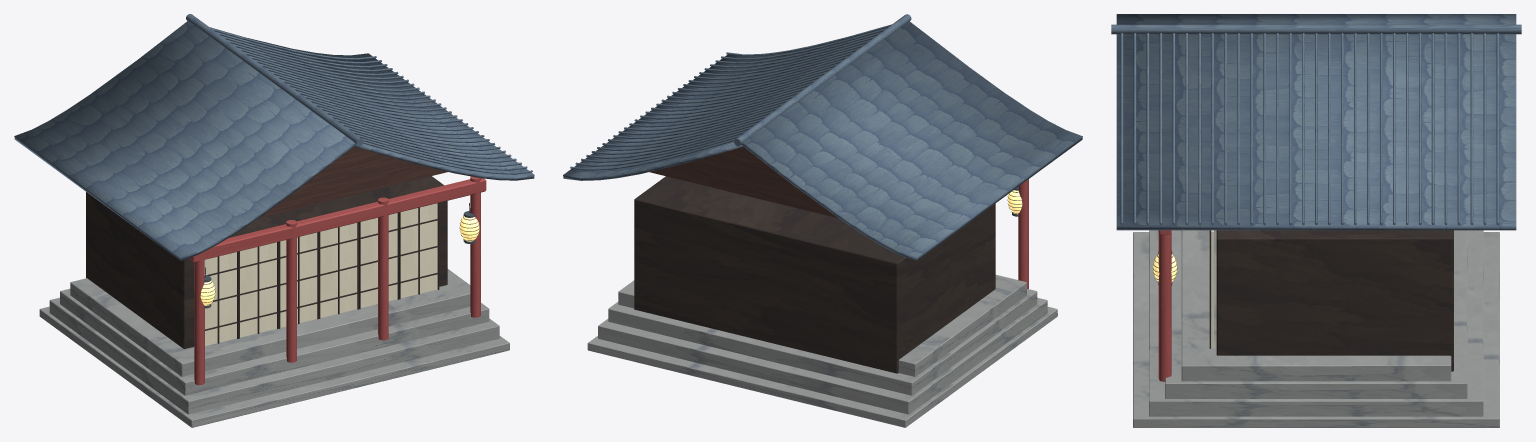
File: temple.glb
The picture shows the model from 3 angles, left to right: view 1: azimuth 30°, elevation 25°; view 2: azimuth 150°, elevation 25°; view 3: azimuth 270°, elevation 25°; orthographic projection. The views are drawn at different scales.
Visible parts, largest first — view 1: temple; view 2: temple; view 3: temple.
Part boxes in pixels (x1=…): temple: x1=14, y1=14, x2=534, y2=427; temple: x1=563, y1=14, x2=1082, y2=427; temple: x1=1111, y1=14, x2=1521, y2=427.
Bounding box in the file's own units: 9.11 × 6.33 × 7.6.
3 materials, 3 textured.
